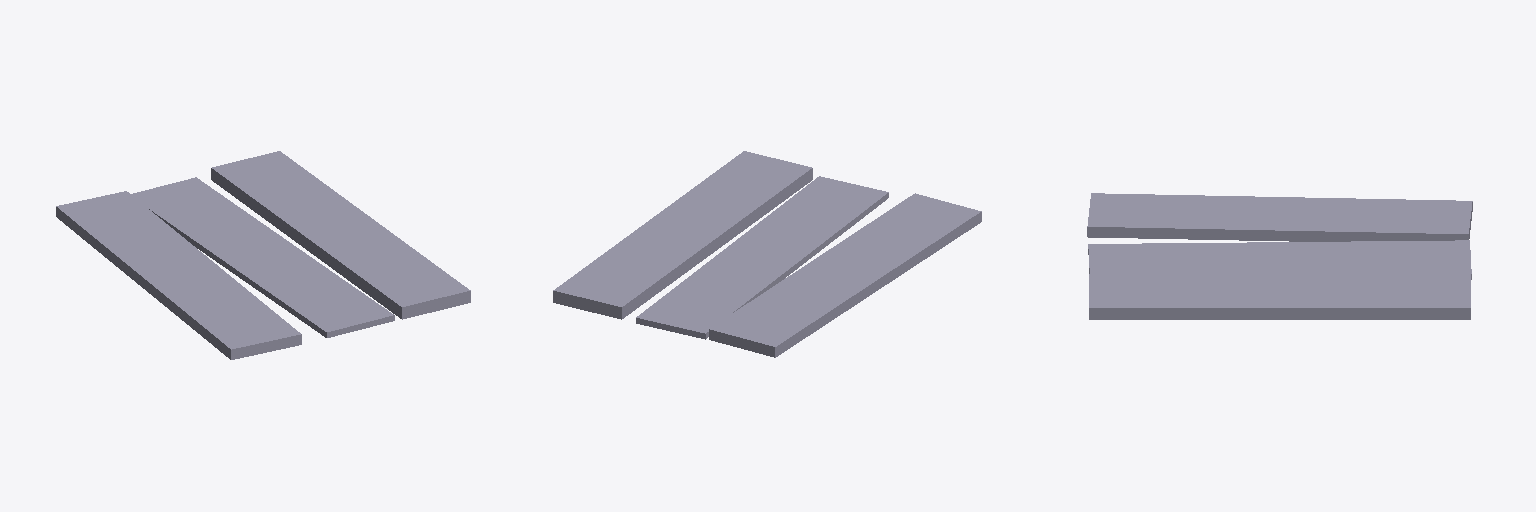
The model's file is woodPlanks1.obj.
3 renders of one model, left to right at view 1: azimuth 30°, elevation 25°; view 2: azimuth 150°, elevation 25°; view 3: azimuth 270°, elevation 25°, orthographic.
Bounding box in the file's own units: 0.7214 × 0.0356 × 1.01.